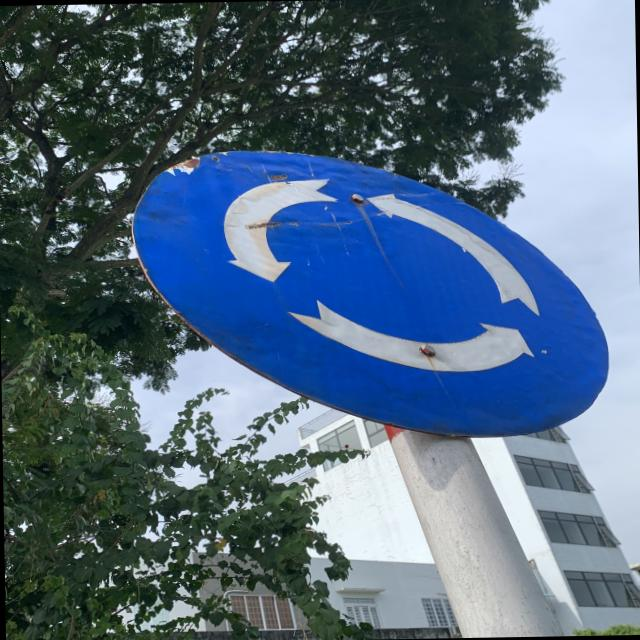Xe_Bus: (130, 140, 612, 440)
